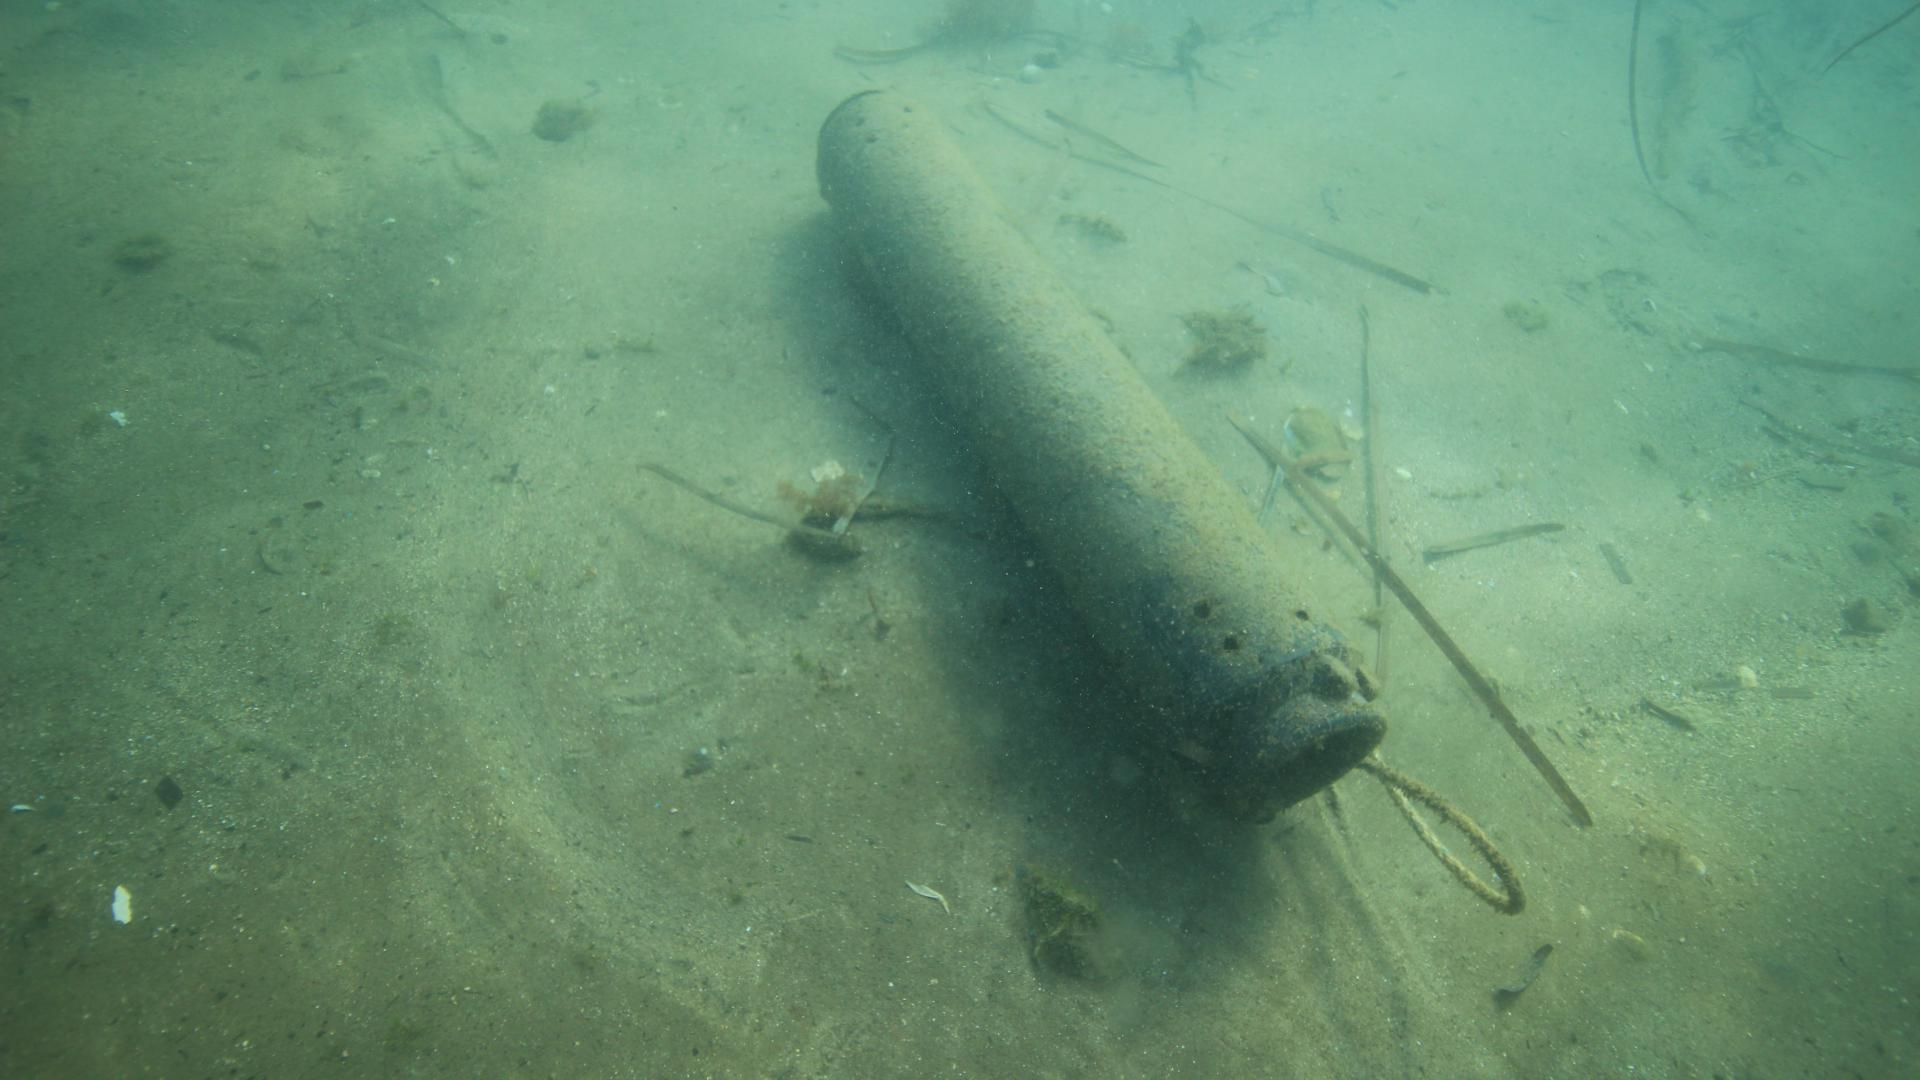bundle of ropes: (1354, 750, 1528, 916)
eel fish trap: (806, 76, 1391, 820)
